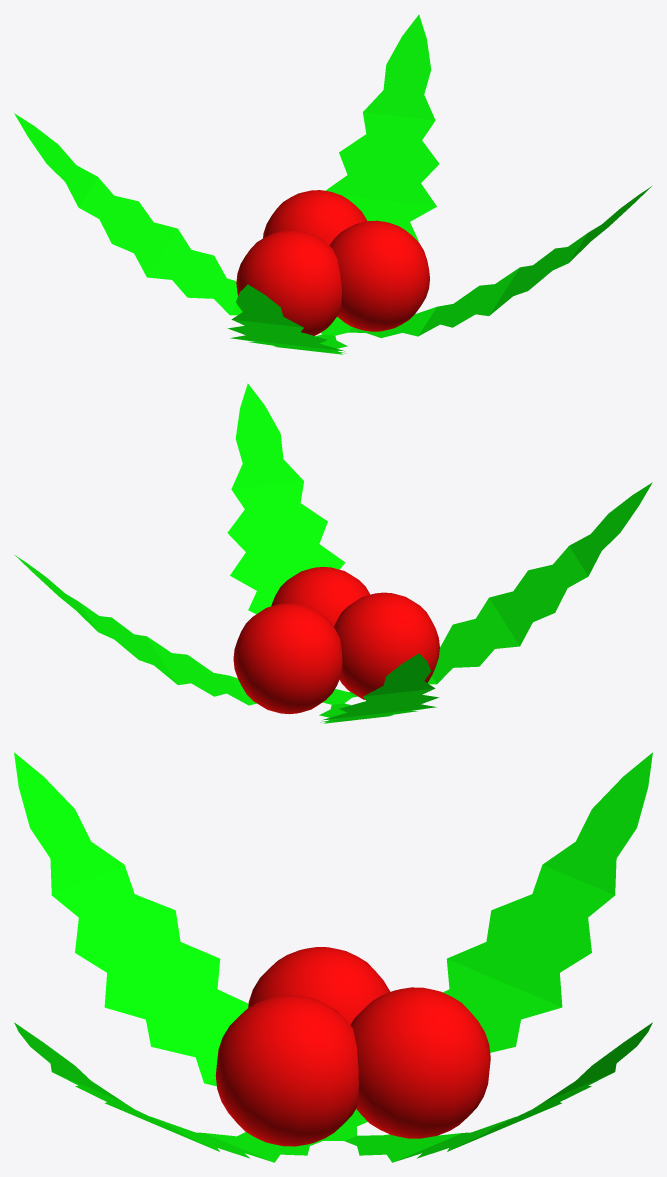
Rendered from holly.glb.
3 views of the same model, one above another, from view 1: azimuth 30°, elevation 25°; view 2: azimuth 150°, elevation 25°; view 3: azimuth 270°, elevation 25° (orthographic). The views are drawn at different scales.
Visible parts, largest first — view 1: holly; view 2: holly; view 3: holly.
Boxes of the visible parts, x1,y1,x2,y2 form: holly: [14, 14, 651, 354]; holly: [15, 383, 652, 723]; holly: [14, 752, 652, 1162].
Bounding box in the file's own units: 0.3735 × 0.1574 × 0.3735.
